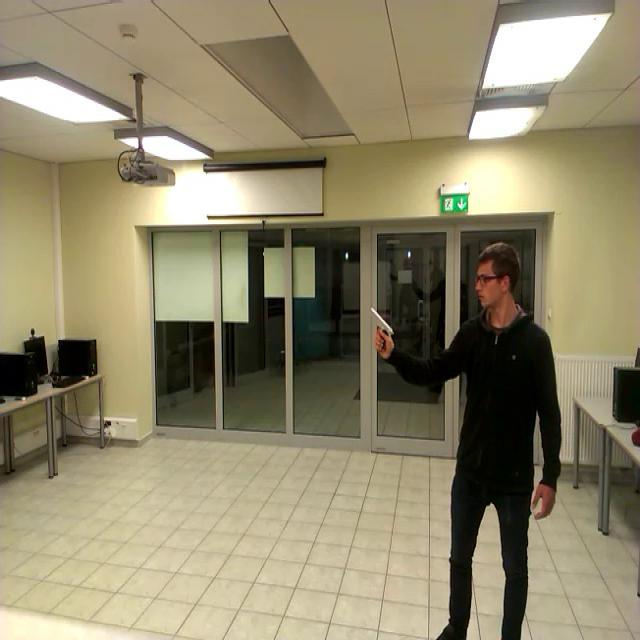Gun: (367, 306, 393, 351)
